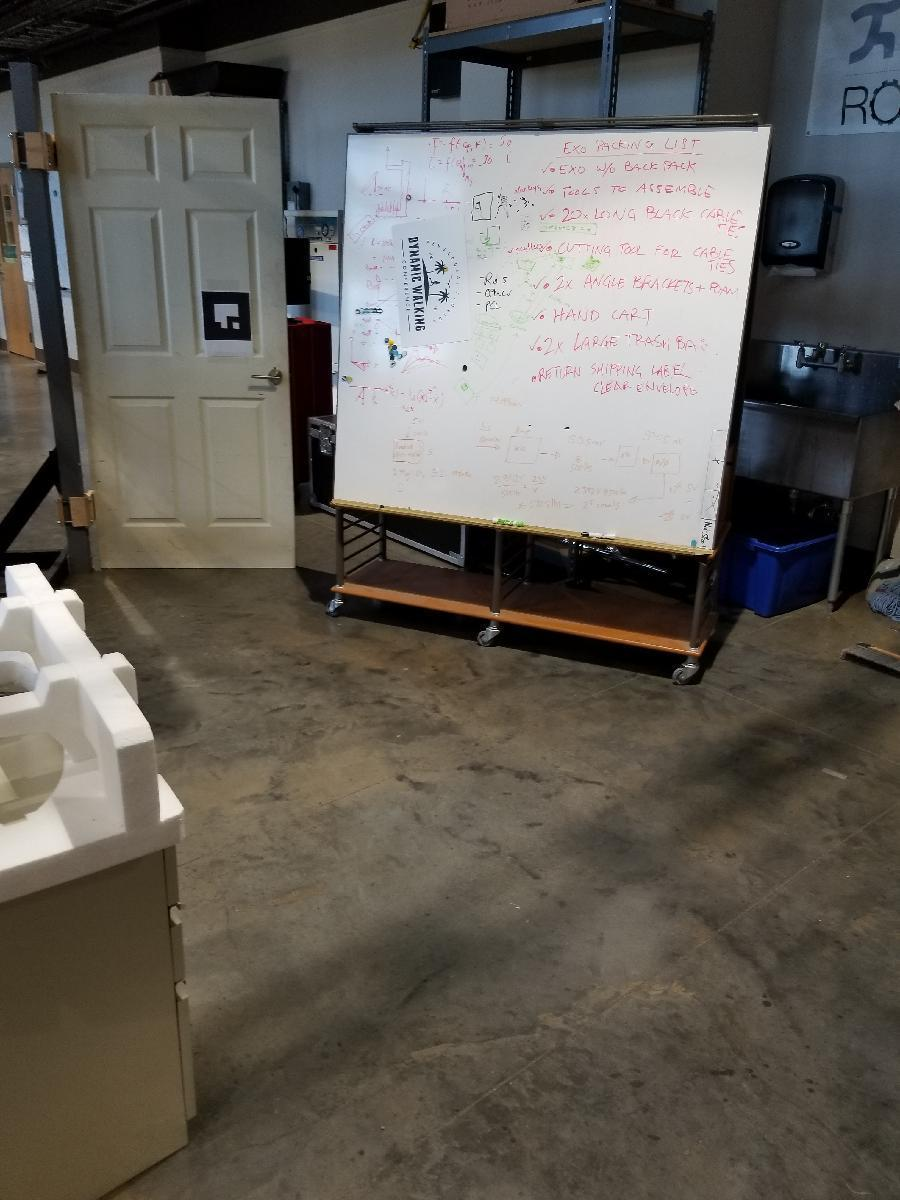door: (56, 93, 290, 568)
handle: (249, 366, 286, 386)
